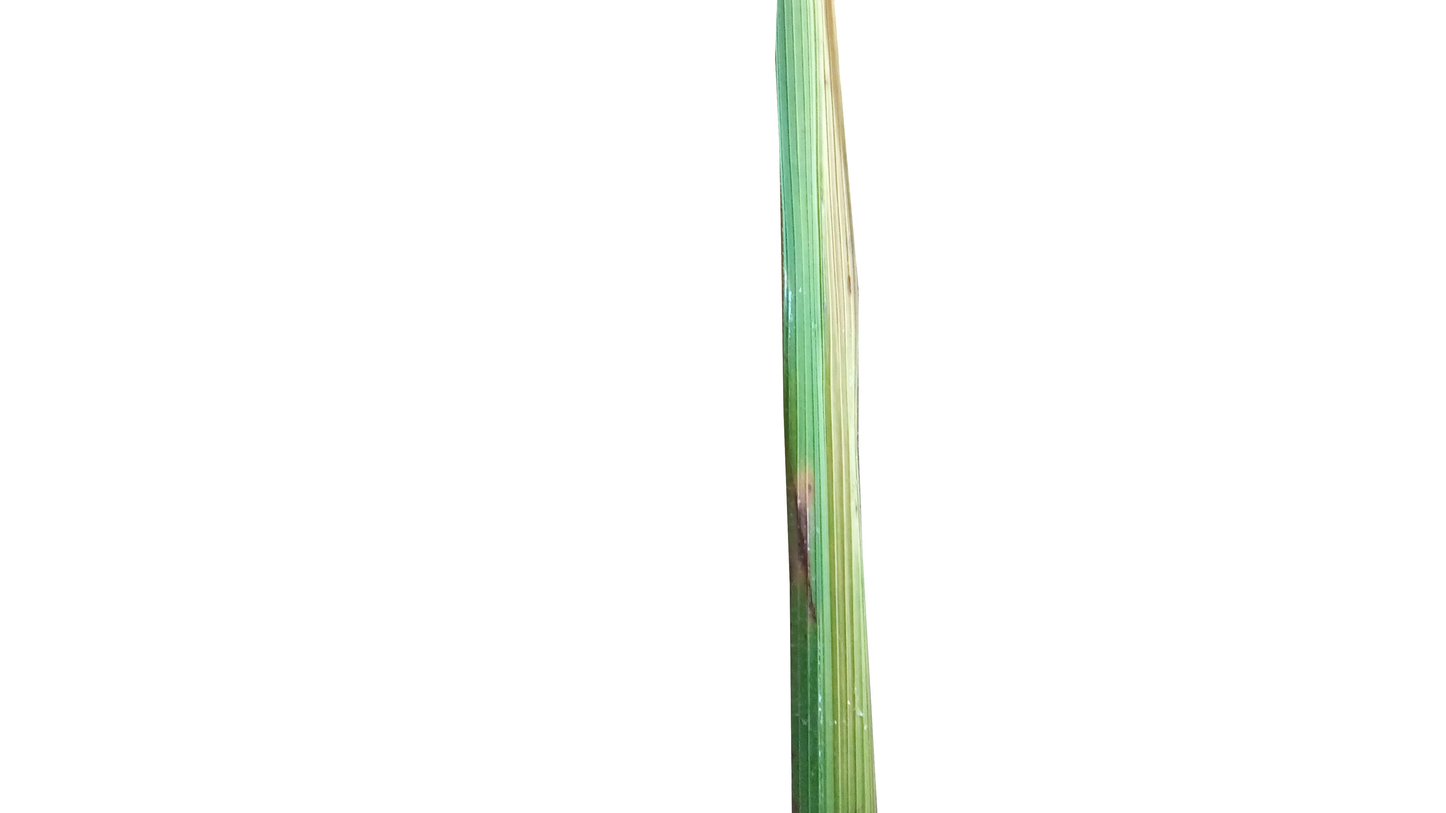Rice blast: (787, 450, 832, 599)
Tungro: (824, 10, 872, 813)
